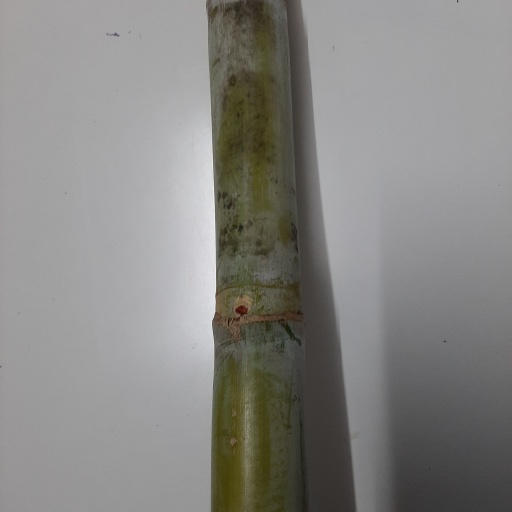Damage_Bud: (231, 294, 253, 317)
